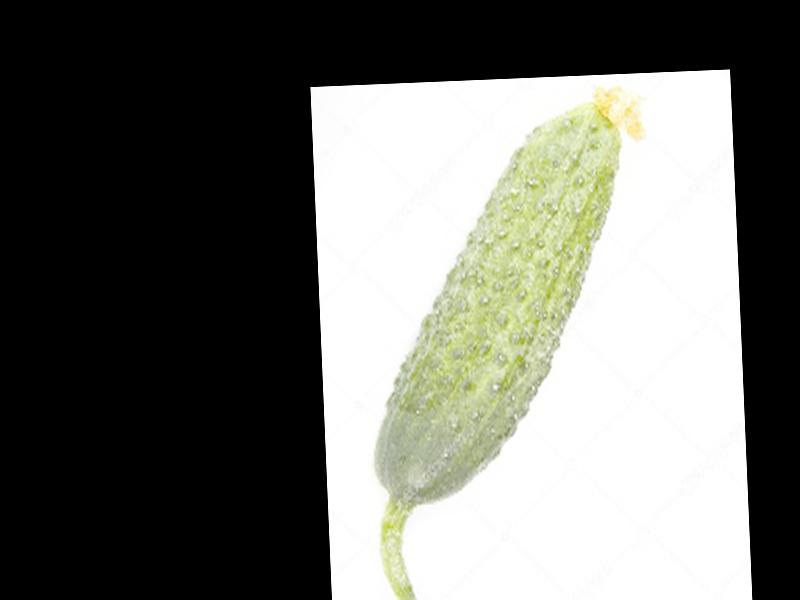Cucumber: (358, 82, 669, 600)
